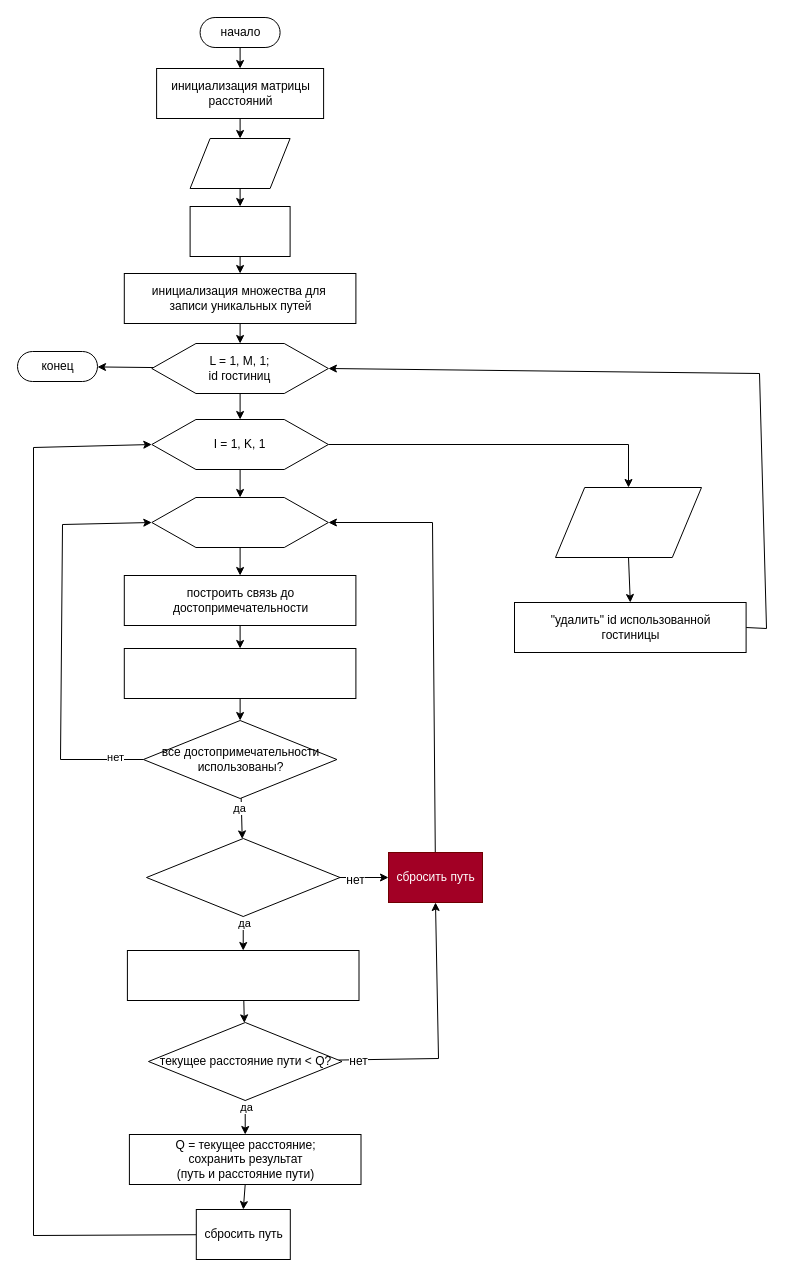
This 792x1277 diagram has some shape labels left out. Here are the shapes that lost their labels. From the top down, the centre of each, then its label:
(x=239, y=163): Ввод N, M
(x=239, y=231): K = N! Q = 99999
(x=239, y=522): id достопримечательностей
(x=628, y=522): Вывод пути и его расстояния
(x=239, y=673): сохранить путь; "удалить" id использованной достопримечательности
(x=243, y=877): путь уникален?
(x=242, y=975): записать путь в множество для записи уникальных путей
